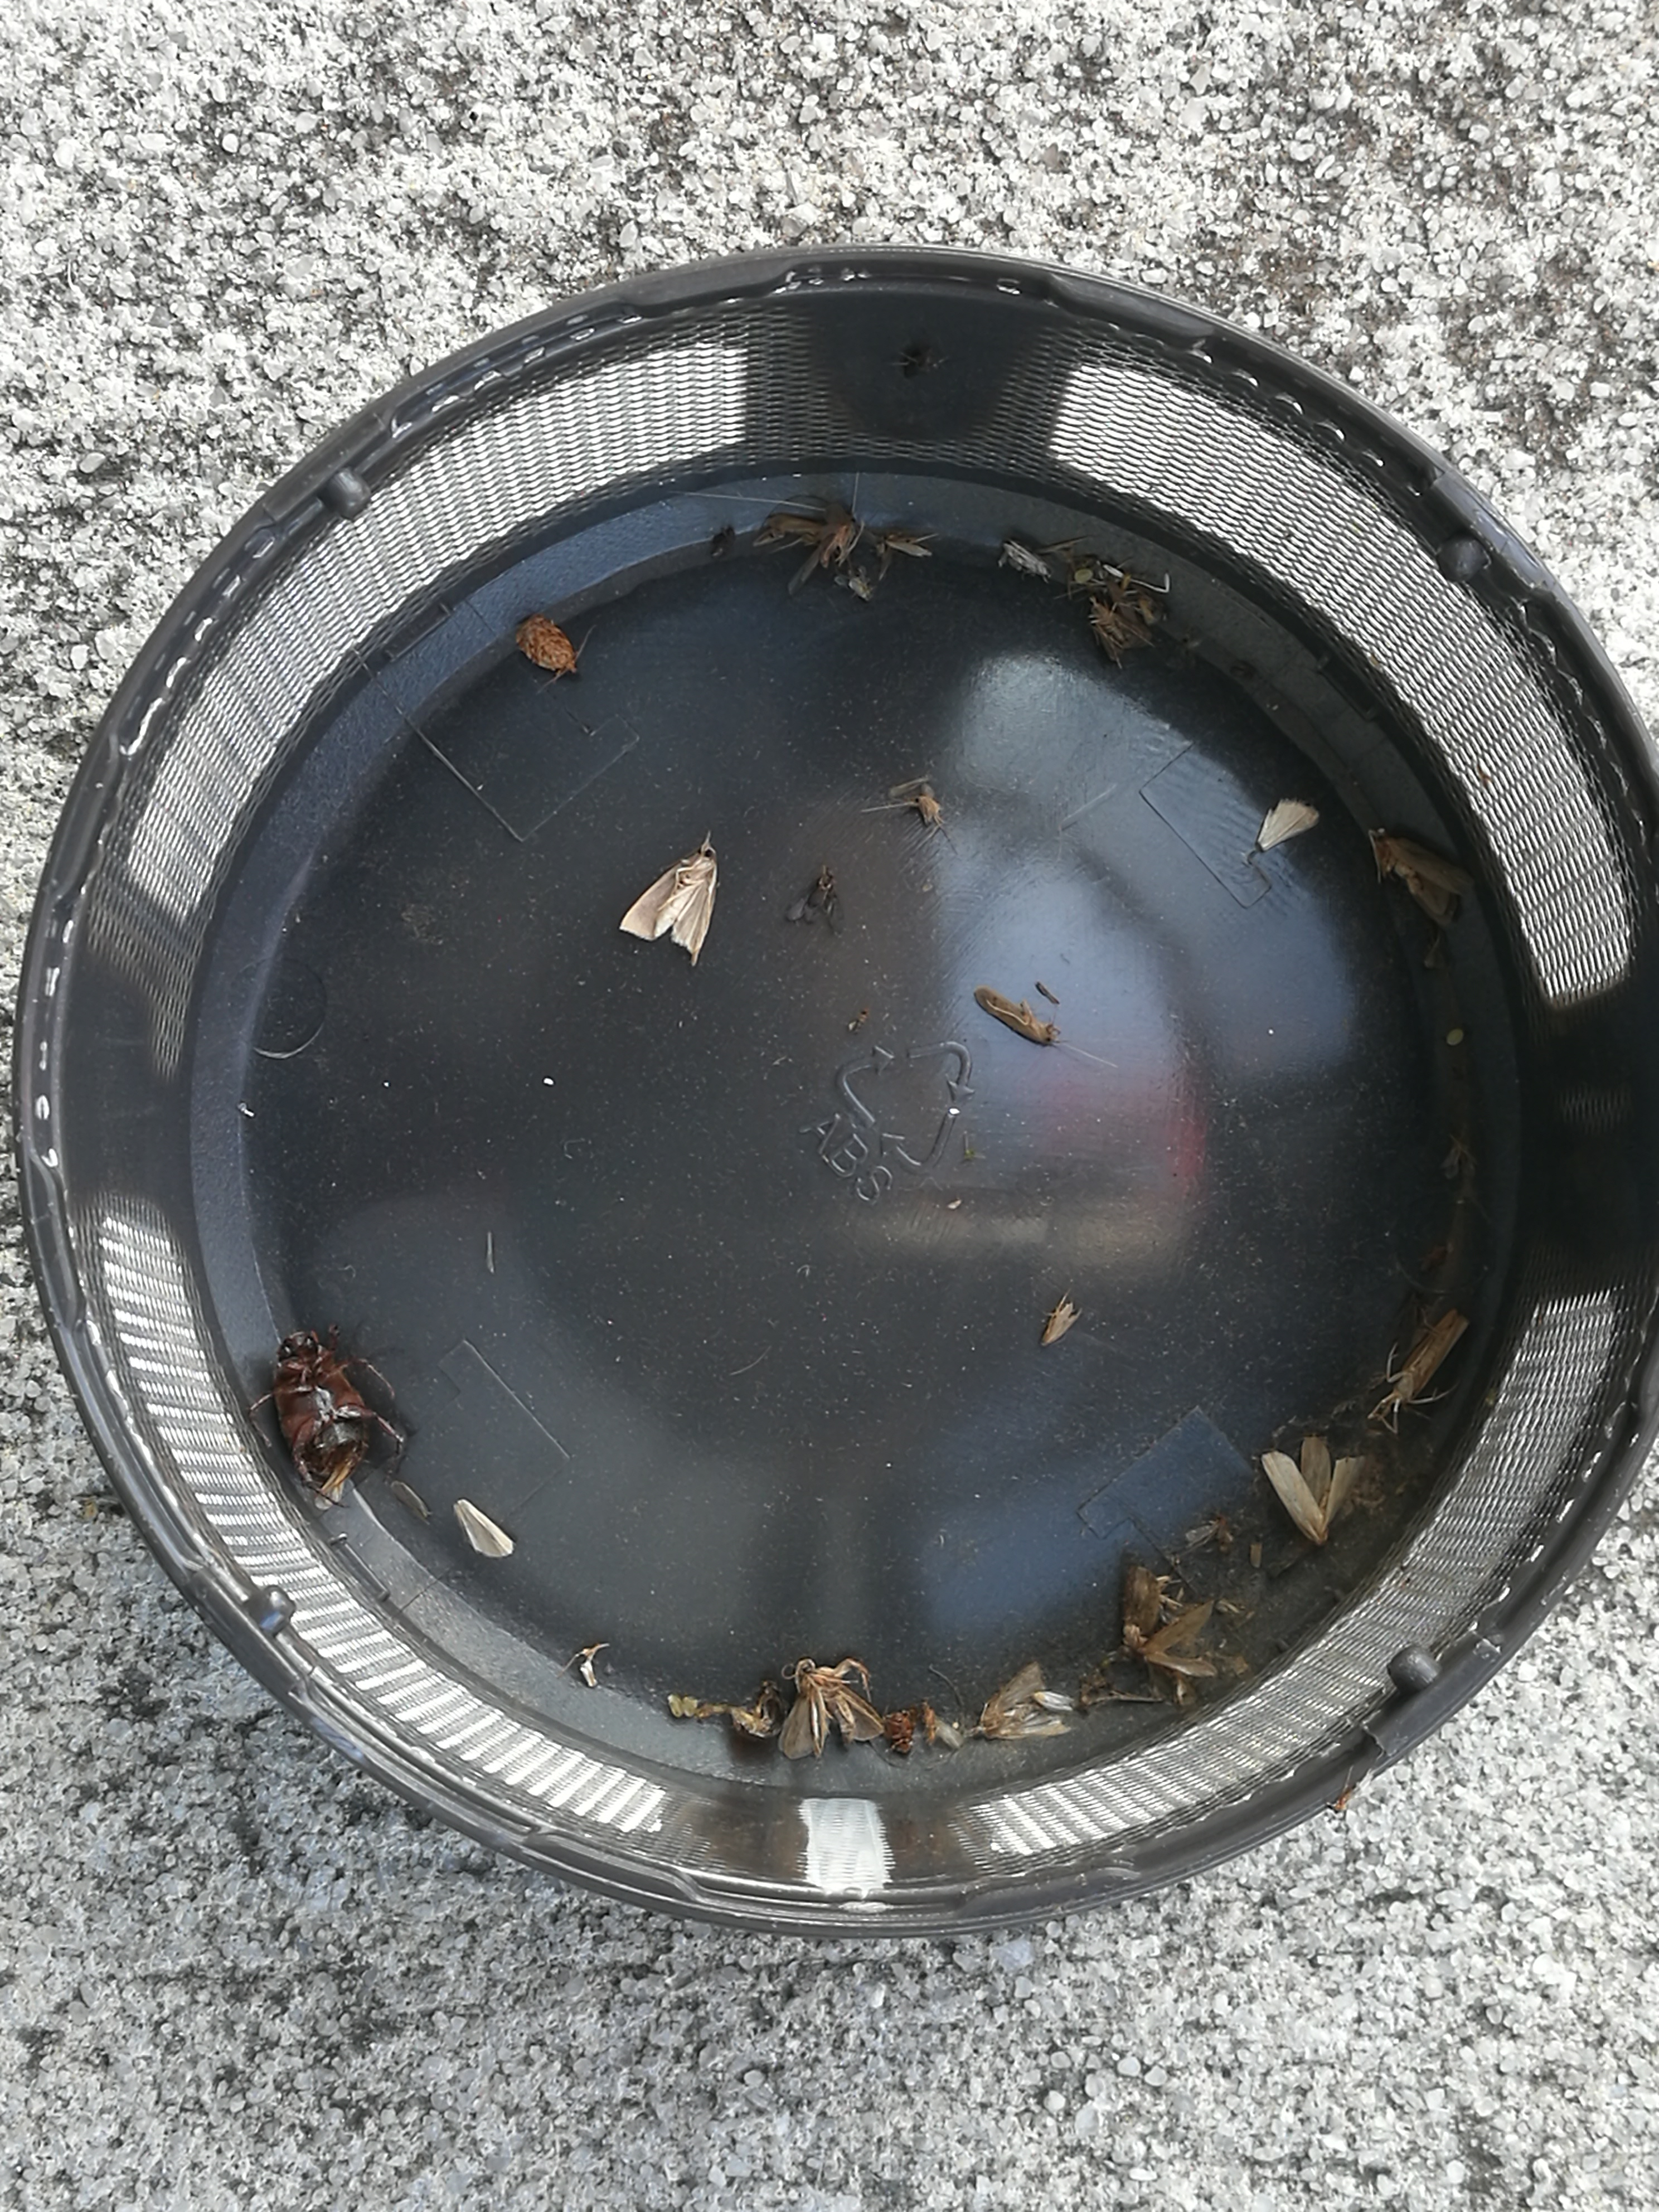beetle: (275, 1331, 366, 1475)
mosquito: (1389, 1313, 1467, 1406), (974, 991, 1053, 1047), (1044, 1296, 1082, 1345), (1004, 540, 1049, 577)
moth: (620, 845, 718, 965), (1121, 1562, 1218, 1677), (1262, 1439, 1364, 1547), (779, 1667, 884, 1759), (1377, 838, 1473, 930), (983, 1663, 1072, 1740), (1089, 603, 1152, 660), (516, 615, 573, 674)
